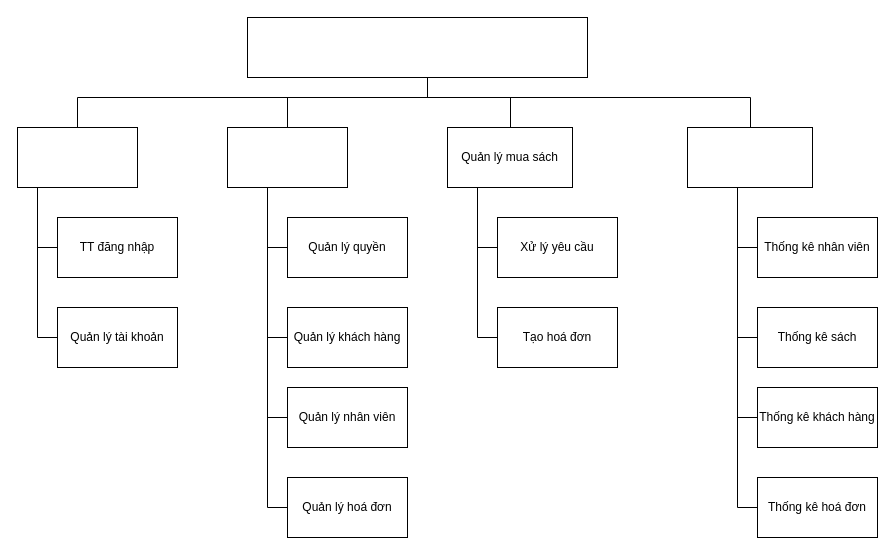
The diagram is 895 pixels wide and 555 high, and some of its shapes have lost their labels. Here are the shapes that lost their labels. From the top down, the centre of each, then its label:
At point (417, 47): "Quản lý cửa hàng bán sách".
At point (77, 157): "Quản lý hệ thống".
At point (287, 157): "Quản lý danh mục".
At point (749, 157): "Báo cáo thống kê".
